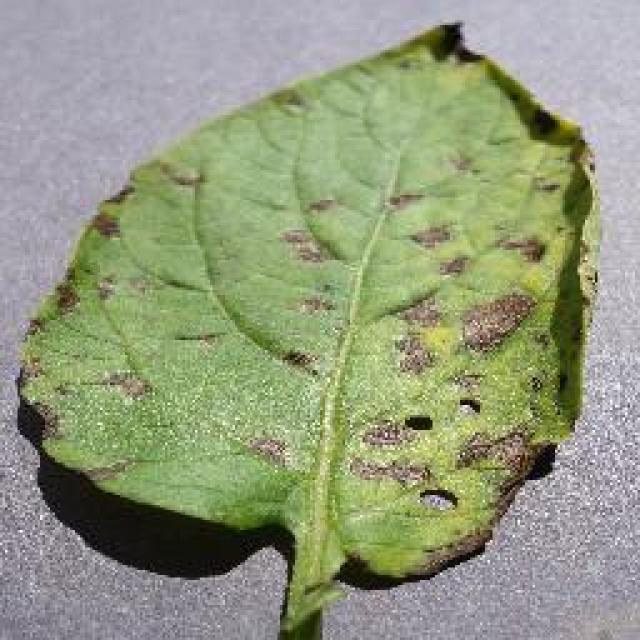early_blight: (13, 18, 605, 638)
